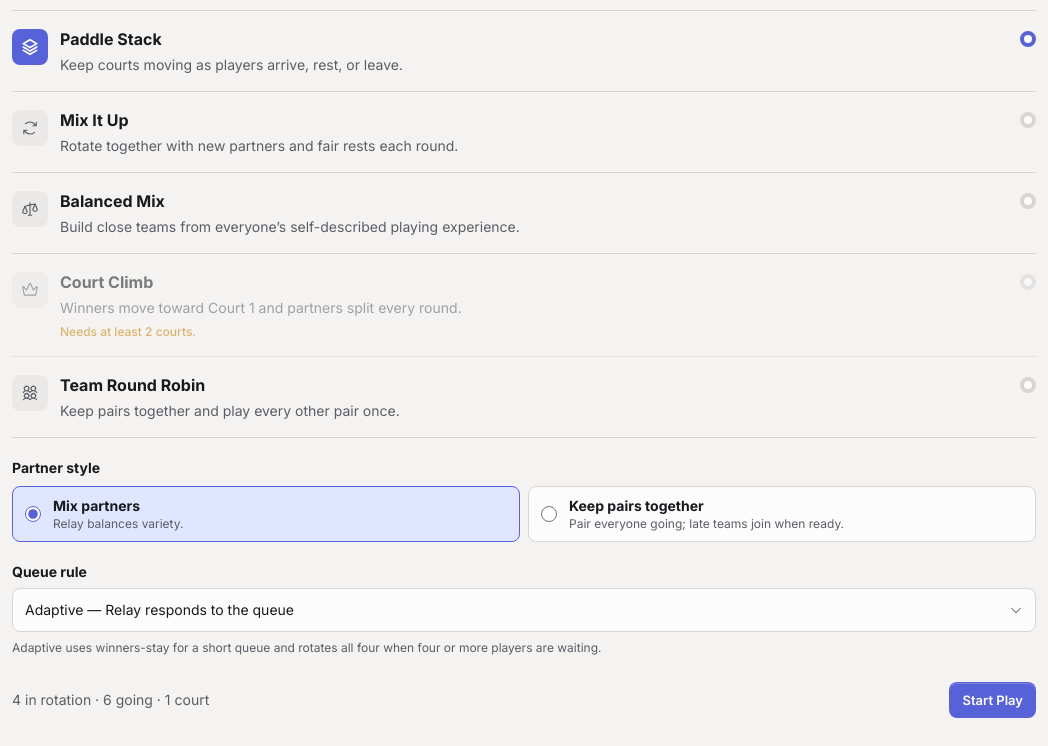
Scenario: PlaySetupForm › pairs the full going roster while late players stay out of the opening rotation
The image size is (1048, 746).
Click the radio button labelled "Keep pairs together" at (549, 514), box [541,506,557,522]
(page scrolled)
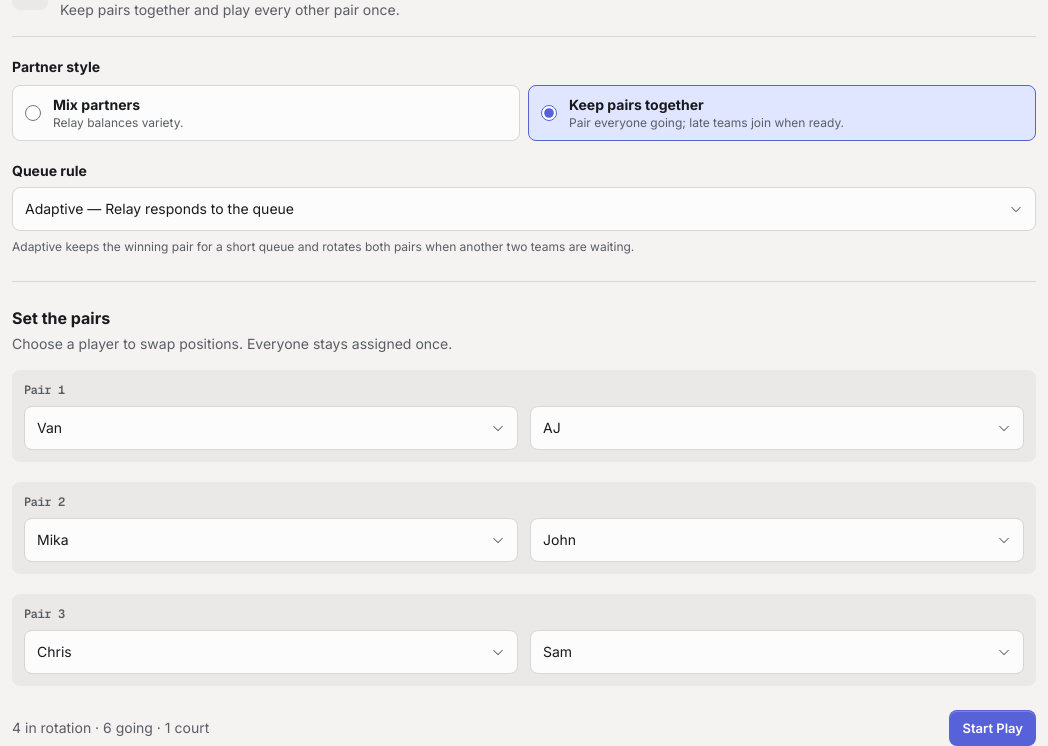
expect the text "4 in rotation · 6 going · 1 court" is shown: met, box [12,718,209,738]
expect the text "Pair 3" is shown: met, box [24,606,65,622]
